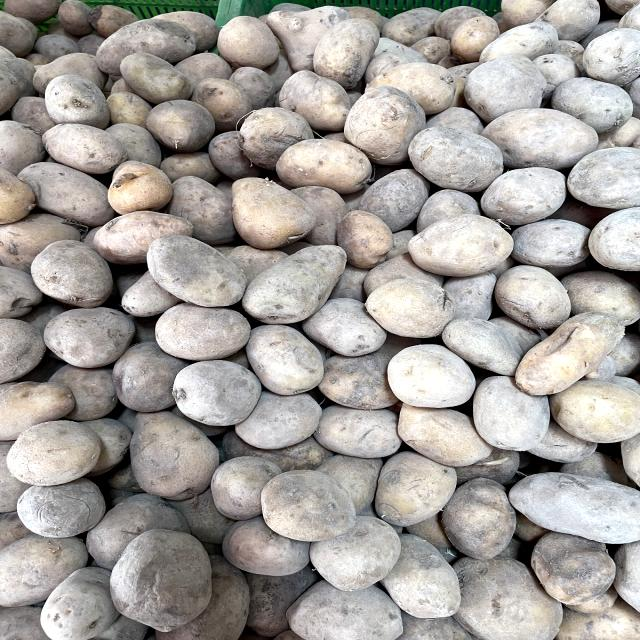potato: (109, 523, 224, 638), (502, 462, 640, 549), (514, 306, 634, 398), (238, 241, 358, 326), (397, 208, 531, 280), (366, 445, 474, 530), (160, 354, 277, 431), (255, 465, 366, 545), (141, 228, 247, 310), (273, 127, 392, 199), (405, 119, 511, 198), (223, 170, 320, 249), (27, 237, 122, 310), (307, 14, 393, 86), (32, 114, 137, 171), (116, 47, 195, 108)
